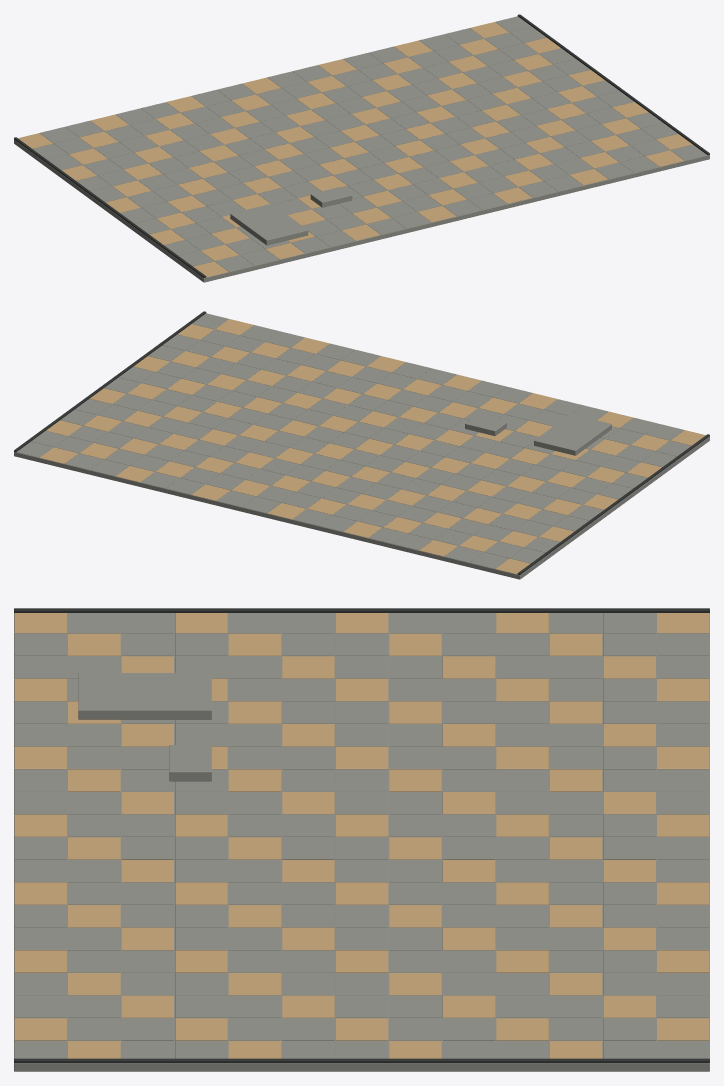
The model's file is sawmill-and-timber-yard-timber-yard-base-1abaef0f__31205.glb.
3 views of the same model, one above another, from view 1: azimuth 30°, elevation 25°; view 2: azimuth 150°, elevation 25°; view 3: azimuth 270°, elevation 25° (orthographic). The views are drawn at different scales.
Visible parts, largest first — view 1: timber-yard-base; view 2: timber-yard-base; view 3: timber-yard-base.
Part boxes in pixels (bbox=[...]): timber-yard-base: bbox=[14, 14, 709, 282]; timber-yard-base: bbox=[14, 311, 709, 579]; timber-yard-base: bbox=[14, 608, 709, 1071].
Size of the model in its own units: 20 by 0.3784 by 13.
